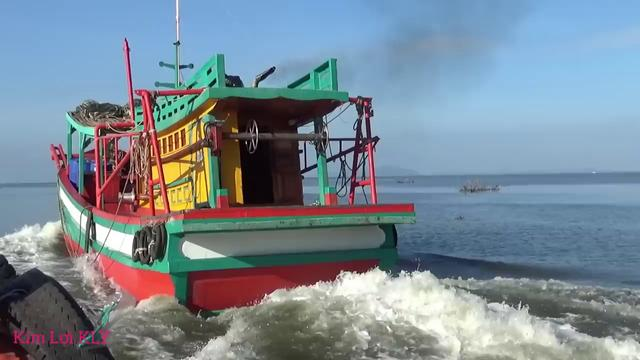Ship: (47, 54, 423, 315)
